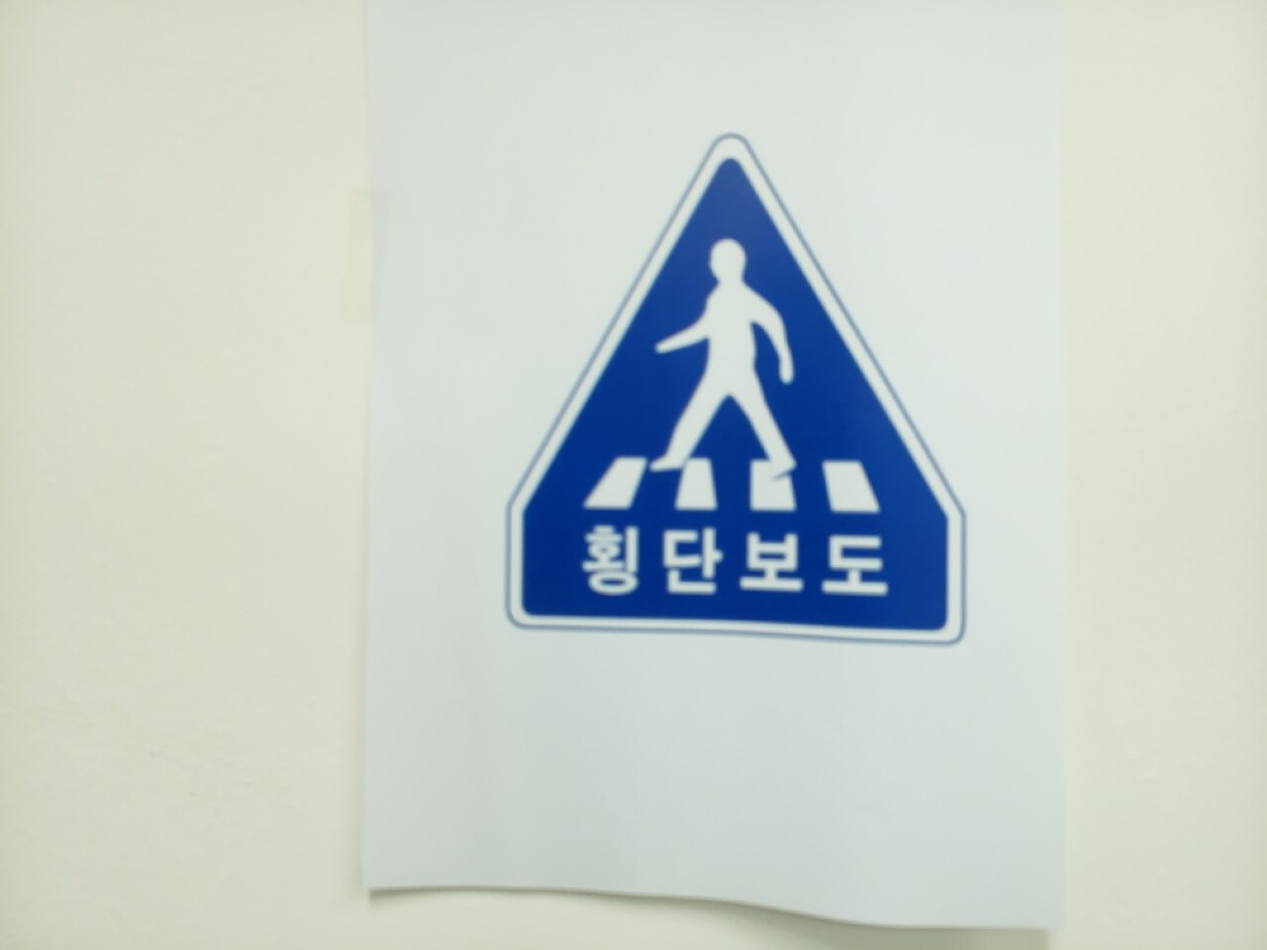crosswalk: (510, 145, 960, 643)
